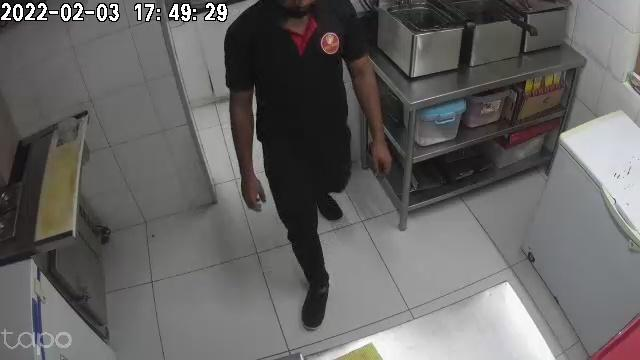no_gloves: (238, 160, 266, 212), (370, 128, 392, 181)
